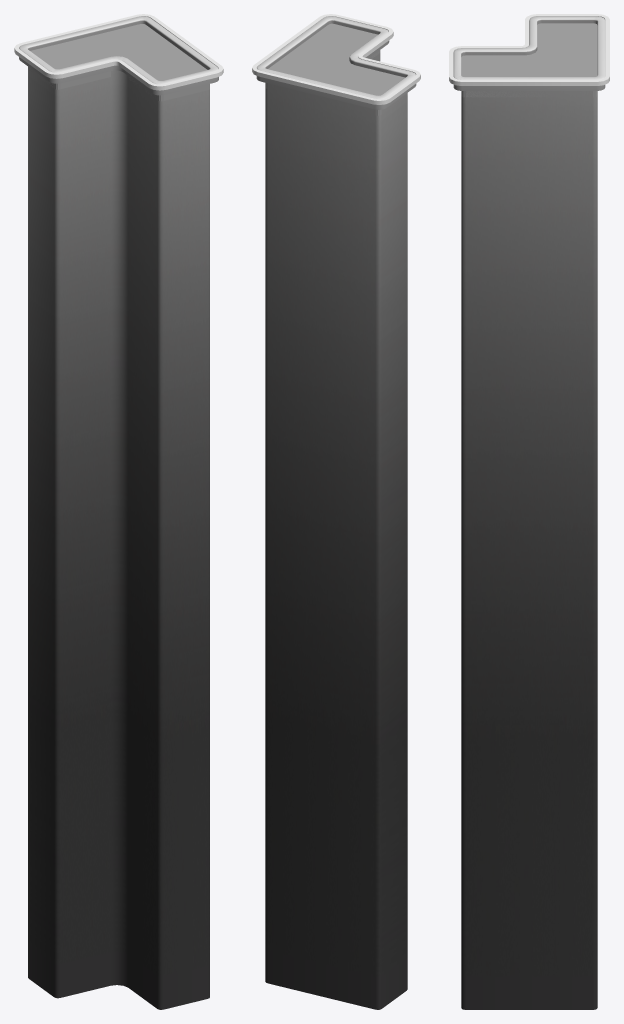
The model's file is BLOCK_3D_V.fbx.
The picture shows the model from 3 angles, left to right: view 1: azimuth 30°, elevation 25°; view 2: azimuth 150°, elevation 25°; view 3: azimuth 270°, elevation 25°; orthographic projection. The views are drawn at different scales.
Parts seen in each view (by area): view 1: L_3_003, OUTLINE.001, L_3_001; view 2: L_3_003, OUTLINE.001, L_3_001; view 3: L_3_003, OUTLINE.001, L_3_001.
Part boxes in pixels (x1,y1,x2,y2): L_3_003: (19, 16, 218, 1009); OUTLINE.001: (28, 24, 209, 101); L_3_001: (14, 14, 223, 90); L_3_003: (256, 16, 416, 1009); OUTLINE.001: (265, 23, 407, 115); L_3_001: (252, 14, 420, 104); L_3_003: (453, 16, 605, 1009); OUTLINE.001: (461, 23, 597, 97); L_3_001: (449, 14, 609, 85).
Bounding box in the file's own units: 212 × 1357 × 212.
